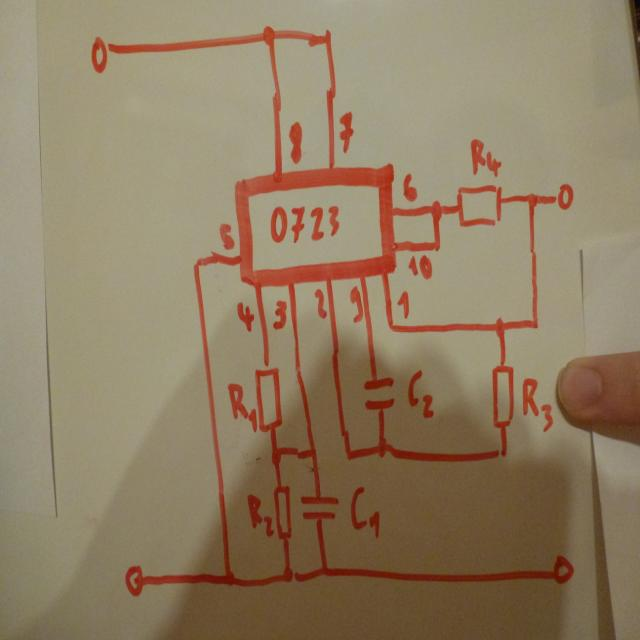capacitor: (298, 487, 340, 530), (361, 369, 399, 415)
junction: (373, 435, 394, 464), (258, 22, 279, 47), (317, 24, 336, 51), (490, 315, 510, 340), (280, 562, 299, 588), (219, 568, 239, 592), (267, 444, 285, 469), (428, 198, 444, 223), (526, 313, 544, 334), (495, 442, 511, 463), (522, 188, 538, 208), (316, 560, 332, 580), (382, 318, 398, 335), (190, 253, 204, 272), (306, 444, 320, 461), (430, 235, 443, 253), (341, 446, 355, 462)
resistor: (454, 182, 509, 232), (251, 357, 285, 434), (487, 358, 517, 433), (272, 478, 294, 544)
terminal: (549, 550, 578, 590), (89, 35, 115, 76), (123, 561, 149, 599), (551, 178, 578, 214)
text: (268, 202, 344, 246), (519, 376, 557, 436), (348, 484, 385, 541), (225, 381, 258, 433), (468, 136, 505, 181), (406, 367, 436, 420), (245, 491, 274, 539), (285, 120, 310, 166), (336, 110, 358, 157), (234, 297, 258, 334), (346, 284, 366, 324), (407, 254, 435, 282), (400, 171, 420, 204), (217, 220, 238, 251), (270, 298, 288, 334), (311, 286, 329, 320), (396, 289, 412, 320)
